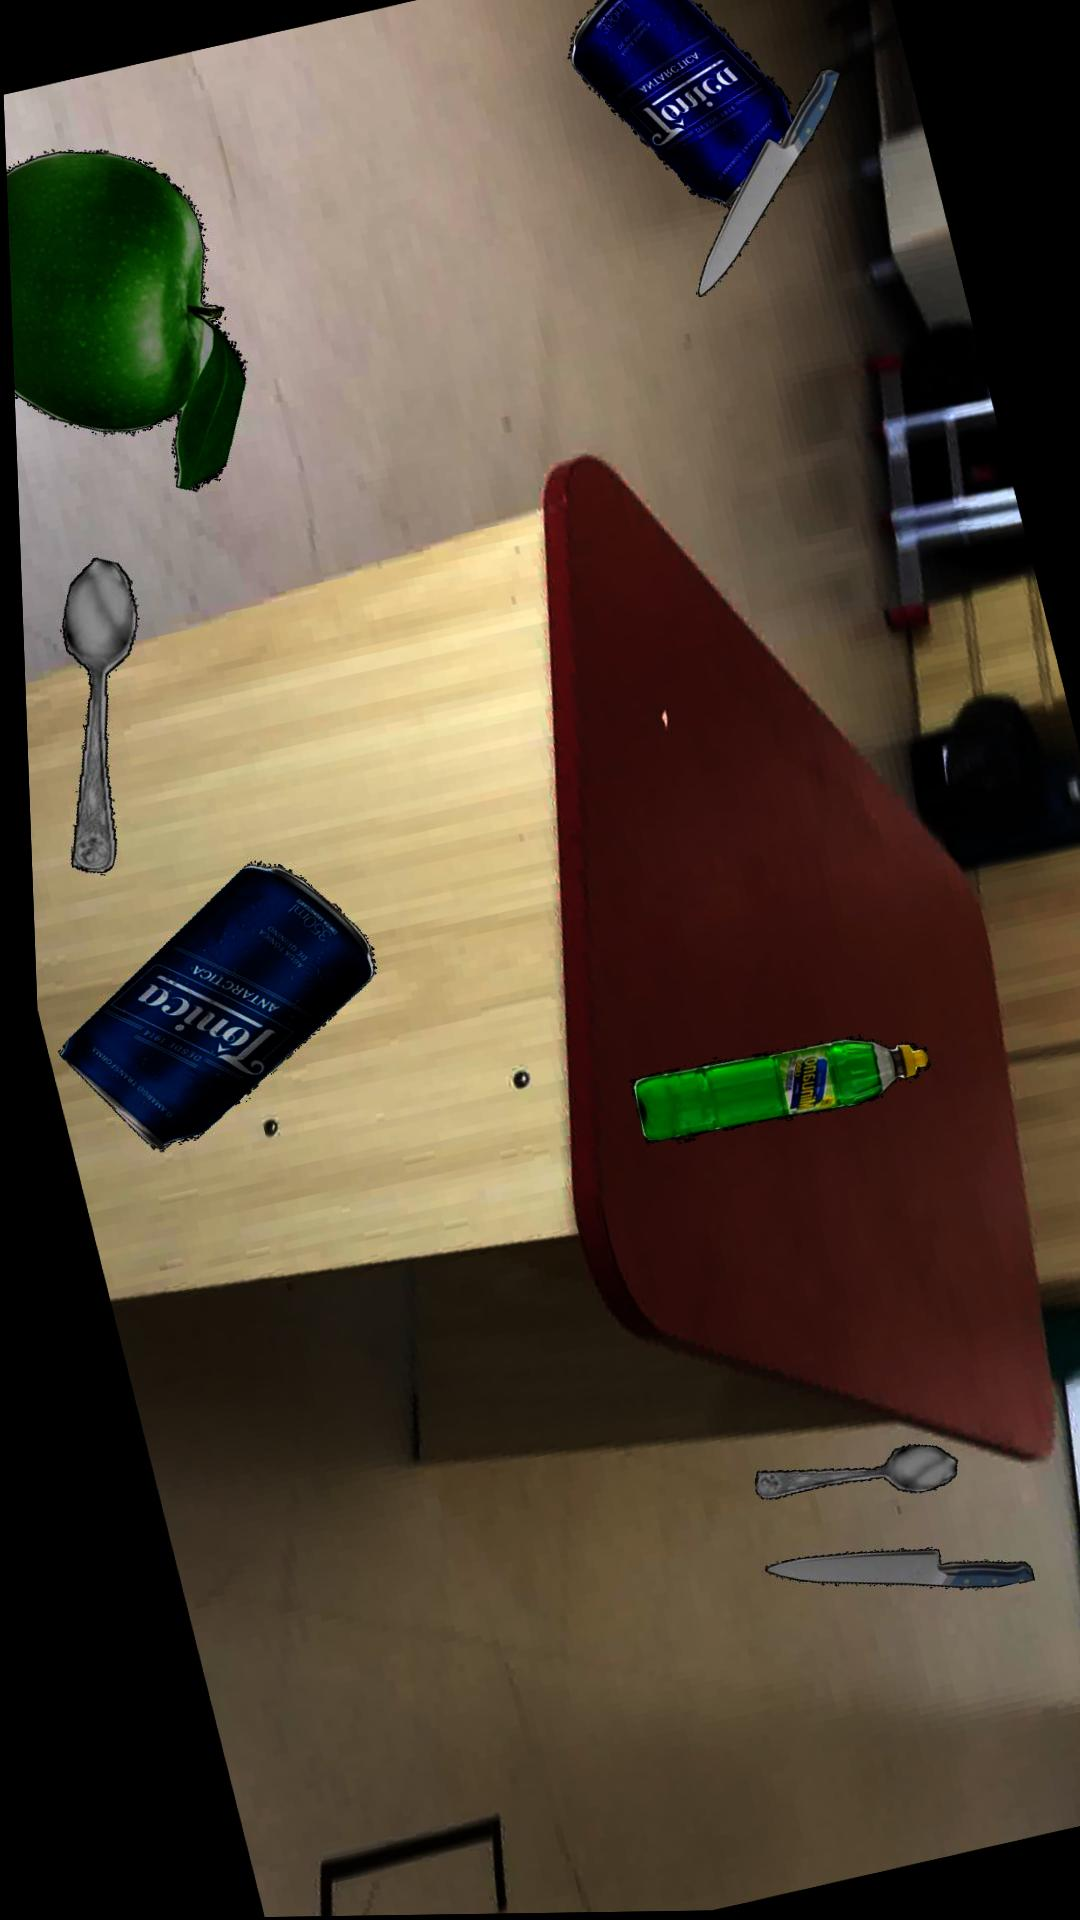cleaner: (618, 1036, 916, 1142)
green apple: (5, 149, 240, 491)
knife: (692, 69, 836, 297), (749, 1549, 1018, 1589)
spoon: (54, 556, 129, 872), (740, 1445, 943, 1499)
tonic: (47, 861, 365, 1147), (566, 0, 790, 207)
